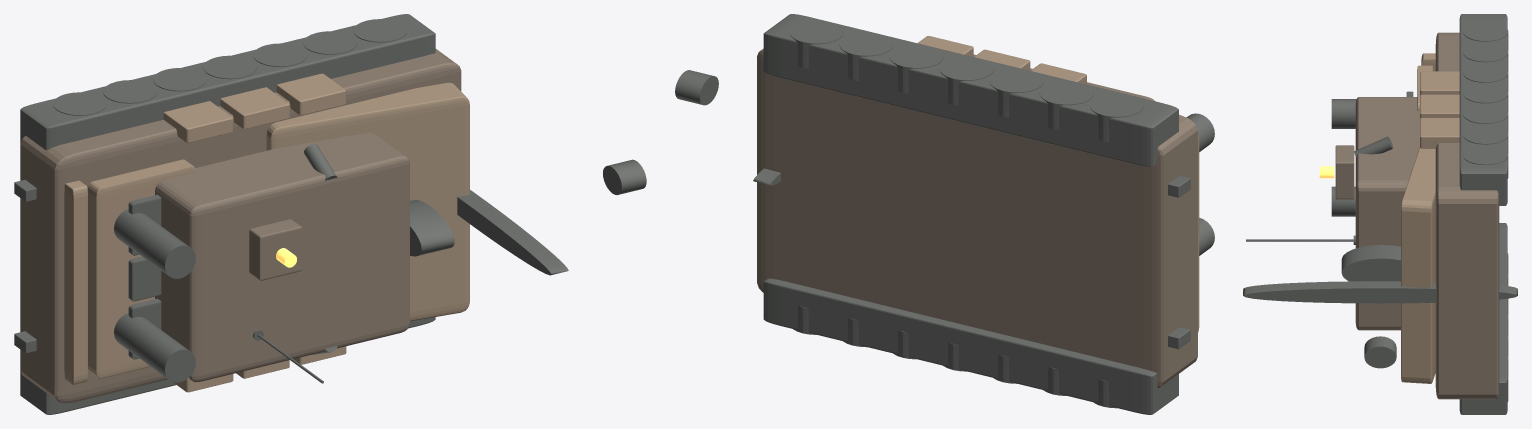
File: d-u13-dominion-main-battle-tank-lod1.glb
3 renders of one model, left to right at view 1: azimuth 30°, elevation 25°; view 2: azimuth 150°, elevation 25°; view 3: azimuth 270°, elevation 25°, orthographic. The views are drawn at different scales.
Parts seen in each view (by area): view 1: turret_yaw, hull_lower, glacis, track_left, engine_deck, rear_armor, gun_pitch, exhaust_left, exhaust_right, commander_cupola, dominion_side_armor_1_2, dominion_side_armor_1_0 (+15 smaller); view 2: hull_lower, track_left, track_right, wheel_l_5, wheel_l_3, wheel_l_4, wheel_l_6, wheel_l_1, wheel_l_2, wheel_l_7, muzzle, dominion_side_armor_1_1 (+3 smaller); view 3: hull_lower, turret_yaw, glacis, track_left, gun_pitch, track_right, recoil_sleeve, dominion_side_armor_1_2, commander_cupola, dominion_side_armor_1_0, dominion_side_armor_1_1, muzzle (+11 smaller).
Part boxes in pixels (box(x1,y1,x2,y2)): turret_yaw: box(155, 132, 409, 382); hull_lower: box(20, 49, 461, 403); glacis: box(266, 82, 469, 321); track_left: box(20, 14, 435, 150); engine_deck: box(87, 159, 195, 378); rear_armor: box(64, 180, 87, 384); gun_pitch: box(457, 190, 568, 275); exhaust_left: box(114, 209, 195, 278); exhaust_right: box(114, 313, 195, 382); commander_cupola: box(249, 219, 302, 280); dominion_side_armor_1_2: box(276, 73, 346, 115); dominion_side_armor_1_0: box(163, 101, 233, 142); hull_lower: box(757, 48, 1197, 388); track_left: box(763, 14, 1178, 166); track_right: box(763, 278, 1178, 414); wheel_l_5: box(889, 45, 943, 93); wheel_l_3: box(989, 69, 1043, 117); wheel_l_4: box(939, 57, 993, 105); wheel_l_6: box(839, 33, 893, 81); wheel_l_1: box(1090, 94, 1143, 142); wheel_l_2: box(1039, 82, 1093, 129); wheel_l_7: box(789, 20, 843, 68); muzzle: box(675, 70, 718, 105); dominion_side_armor_1_1: box(974, 49, 1030, 70); hull_lower: box(1435, 32, 1499, 399); turret_yaw: box(1355, 97, 1419, 330); glacis: box(1401, 147, 1435, 383); track_left: box(1459, 14, 1507, 205); gun_pitch: box(1243, 281, 1517, 303); track_right: box(1459, 223, 1507, 414); recoil_sleeve: box(1341, 245, 1400, 281); dominion_side_armor_1_2: box(1420, 118, 1459, 148); commander_cupola: box(1335, 145, 1354, 199); dominion_side_armor_1_0: box(1420, 71, 1459, 94); dominion_side_armor_1_1: box(1420, 94, 1459, 118); muzzle: box(1364, 336, 1396, 368).
Size of what is drawn, in the model's own units: 8.11 by 4.04 by 4.1.
